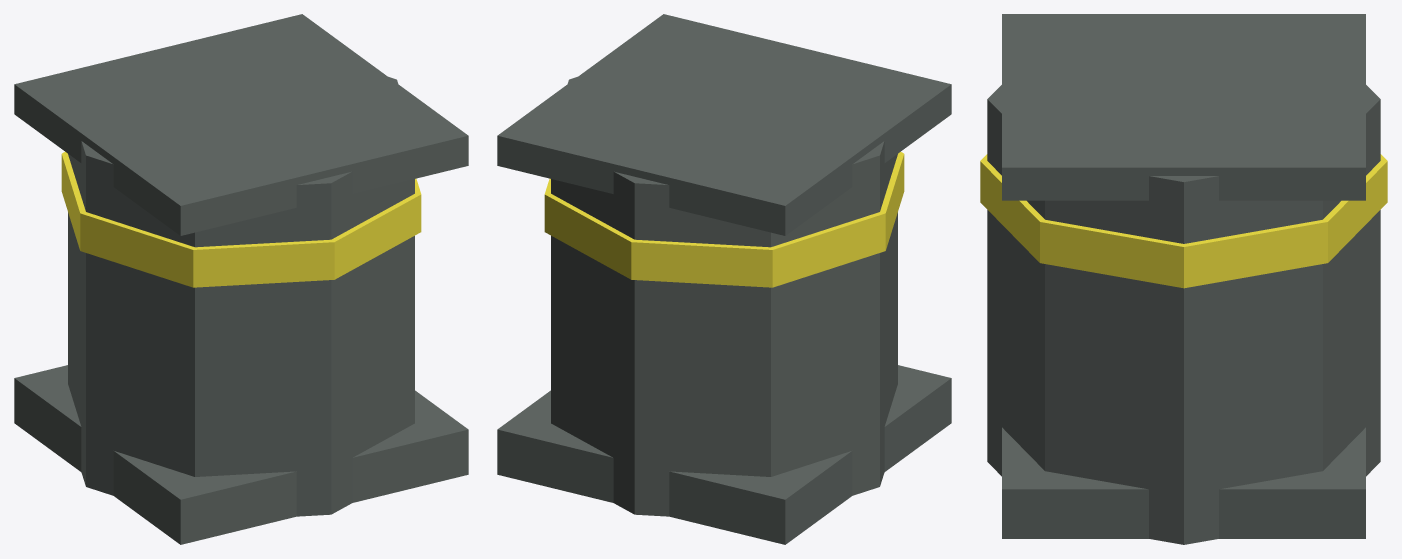
File: solid-wall-toxic.glb
3 views of the same model, side by side, from view 1: azimuth 30°, elevation 25°; view 2: azimuth 150°, elevation 25°; view 3: azimuth 270°, elevation 25° (orthographic). The views are drawn at different scales.
Parts seen in each view (by area): view 1: Toxic_Pillar_Body, Cube.001, Cube, Cylinder; view 2: Toxic_Pillar_Body, Cube.001, Cube, Cylinder; view 3: Toxic_Pillar_Body, Cube.001, Cube, Cylinder.
Part boxes in pixels (x1,y1,x2,y2): Toxic_Pillar_Body: (68,77,414,516); Cube.001: (14,14,468,235); Cube: (14,365,468,544); Cylinder: (61,151,421,287); Toxic_Pillar_Body: (551,77,897,516); Cube.001: (497,14,951,235); Cube: (497,365,951,544); Cylinder: (544,151,904,287); Toxic_Pillar_Body: (987,85,1380,544); Cube.001: (1002,14,1365,200); Cube: (1002,427,1365,538); Cylinder: (980,154,1387,288).
Size of the model in its own units: 2.24 by 2.25 by 2.24.
